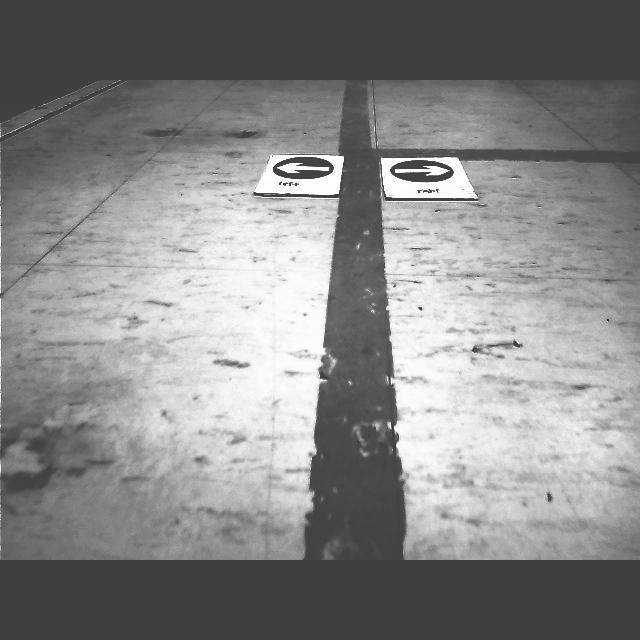TURN LEFT: (273, 156, 334, 179)
TURN RIGHT: (390, 159, 455, 182)
